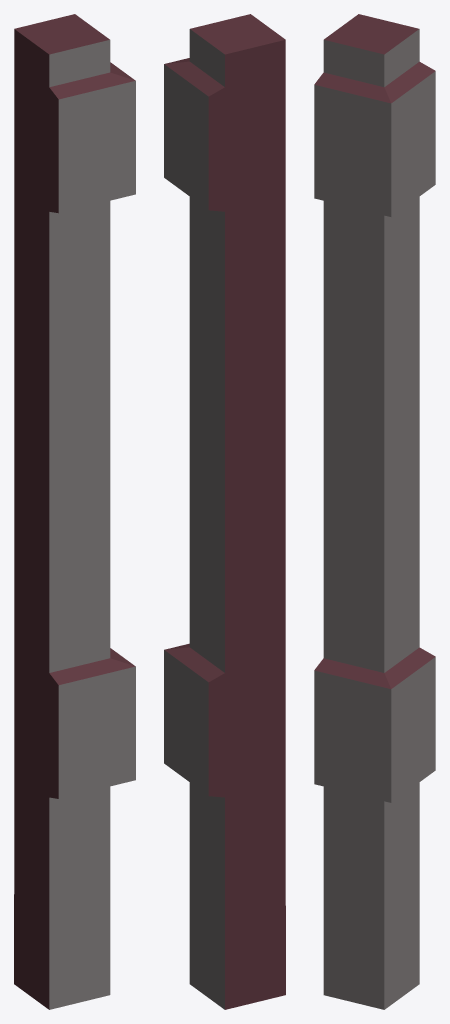
The model's file is buildings-wall-stone-corner-c.glb.
The picture shows the model from 3 angles, left to right: view 1: azimuth 30°, elevation 25°; view 2: azimuth 210°, elevation 25°; view 3: azimuth 330°, elevation 25°; orthographic projection.
Visible parts, largest first — view 1: wall-stone-corner-c; view 2: wall-stone-corner-c; view 3: wall-stone-corner-c.
Part boxes in pixels (x1,y1,x2,y2): wall-stone-corner-c: (14,14,135,1009); wall-stone-corner-c: (164,14,285,1009); wall-stone-corner-c: (314,14,435,1009).
Size of the model in its own units: 0.2535 by 3 by 0.2535.
